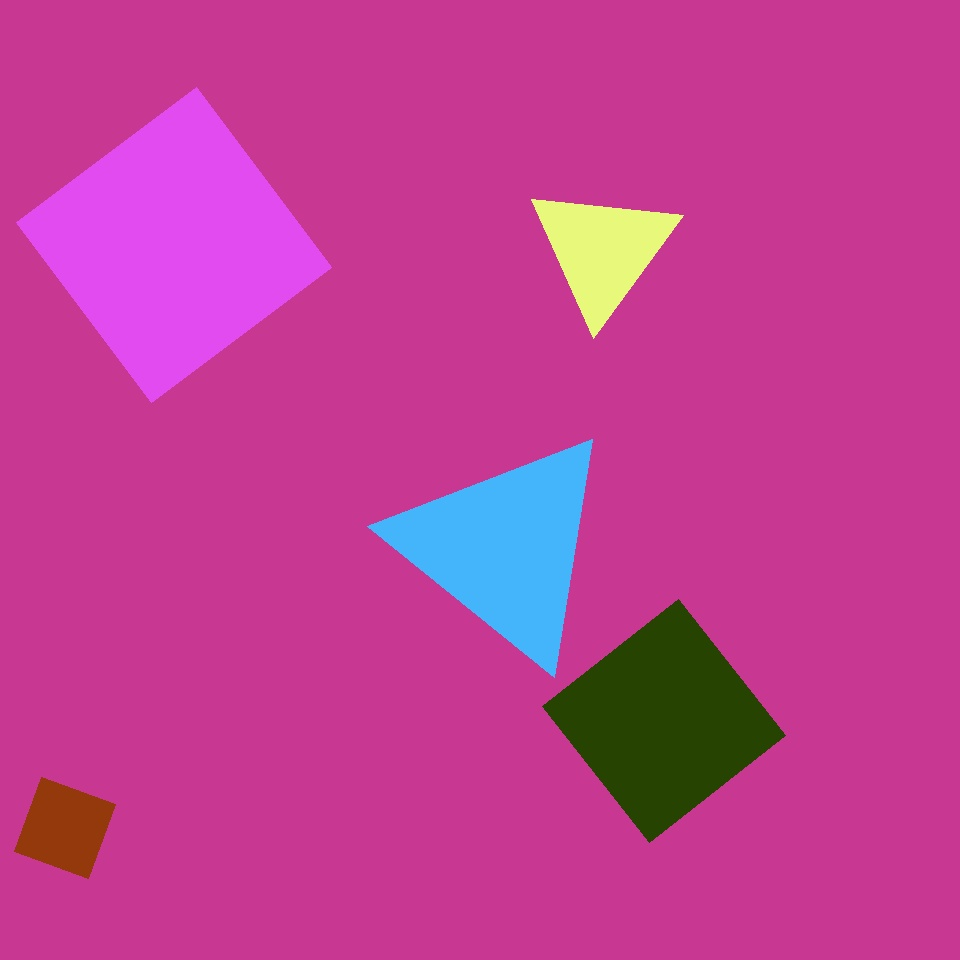circle: (392, 429, 618, 667), (172, 131, 396, 323), (474, 50, 624, 219), (527, 182, 679, 320)
square: (16, 87, 332, 402), (542, 600, 786, 843), (14, 778, 115, 878)
triangle: (85, 604, 325, 844)
